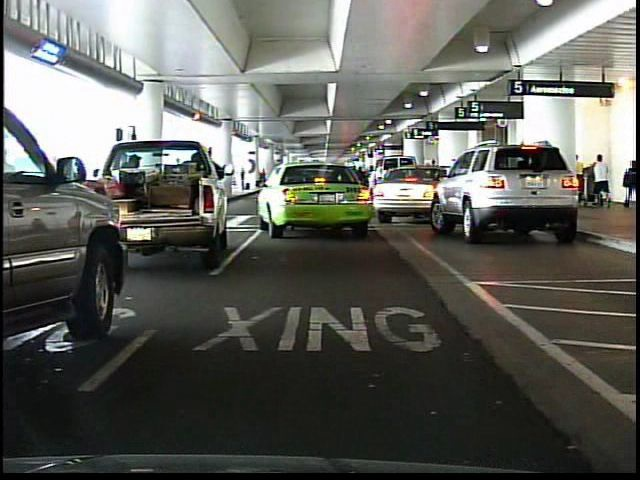person: (592, 152, 611, 210), (619, 158, 636, 210), (577, 150, 591, 207)
